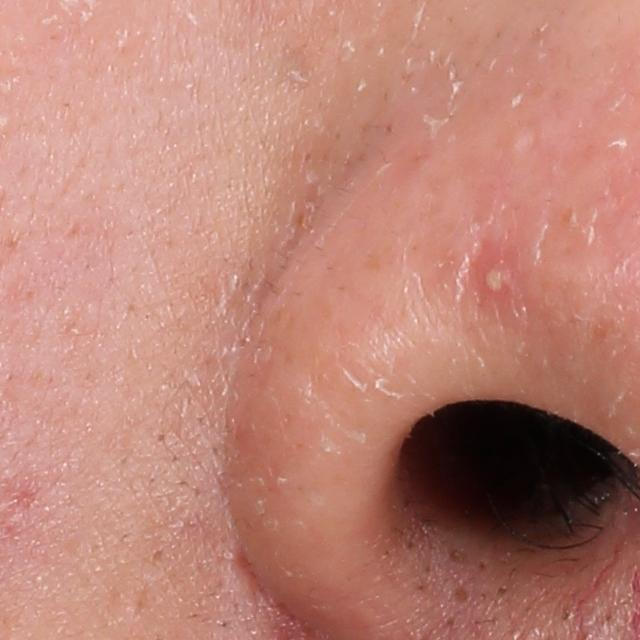pustule: (469, 239, 529, 311)
